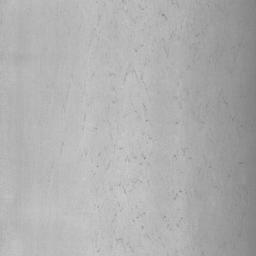Silk spot: (144, 18, 206, 66), (91, 134, 123, 175), (131, 205, 161, 240), (92, 230, 134, 253), (122, 0, 147, 31), (110, 176, 149, 194), (109, 64, 144, 83), (168, 184, 201, 200), (125, 152, 152, 165), (161, 216, 183, 230)
